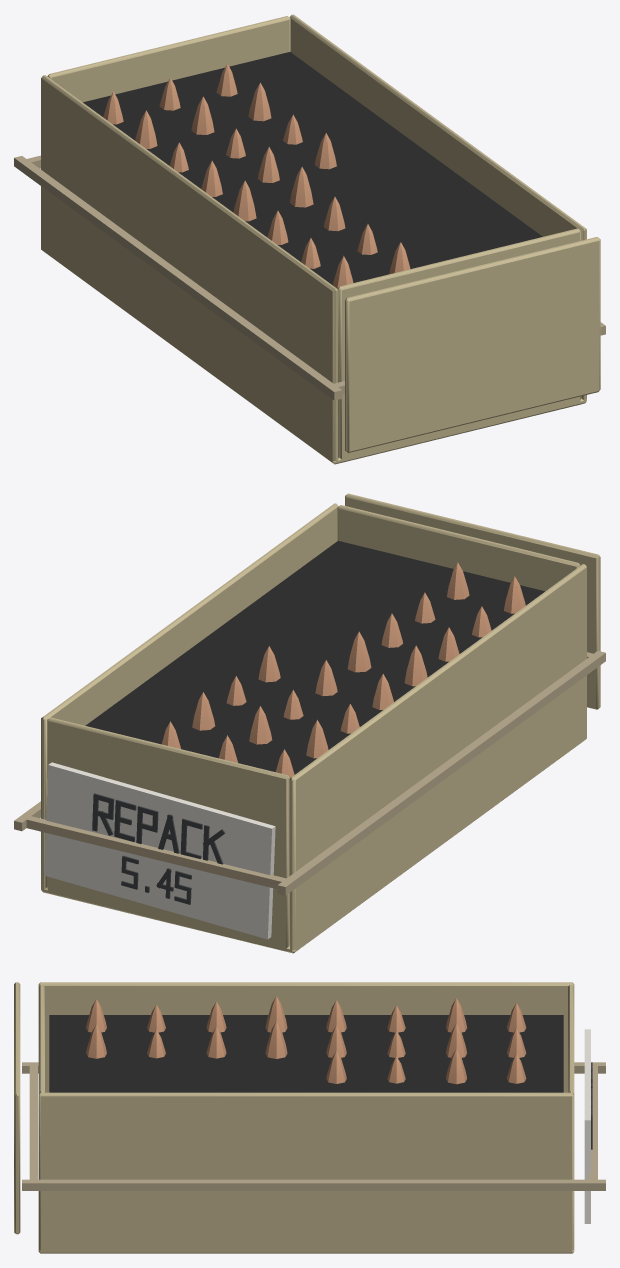
File: ammo_545_repack.glb
The picture shows the model from 3 angles, top to bottom: view 1: azimuth 30°, elevation 25°; view 2: azimuth 150°, elevation 25°; view 3: azimuth 270°, elevation 25°; orthographic projection. The views are drawn at different scales.
Visible parts, largest first — view 1: body; view 2: body; view 3: body.
Boxes of the visible parts, x1,y1,x2,y2 form: body: (14,14,605,464); body: (14,493,605,953); body: (14,982,605,1253).
Bounding box in the file's own units: 0.0534 × 0.0338 × 0.1105.
